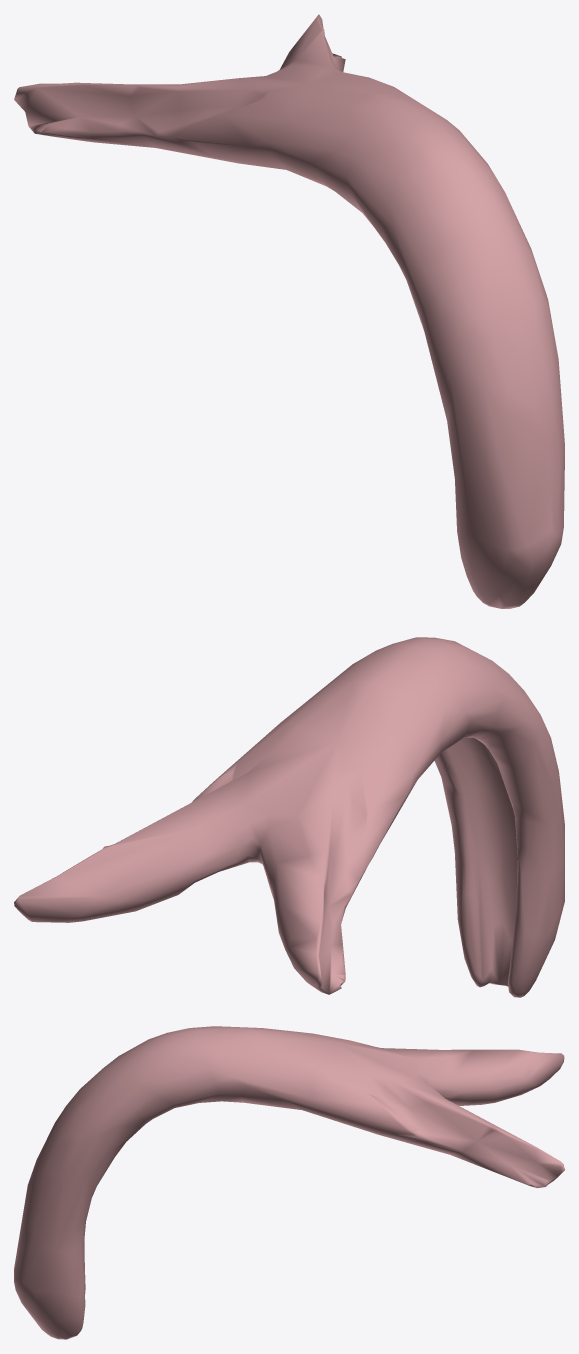
3 views of the same model, one above another, from view 1: azimuth 30°, elevation 25°; view 2: azimuth 150°, elevation 25°; view 3: azimuth 270°, elevation 25° (orthographic). The views are drawn at different scales.
Visible parts, largest first — view 1: ZA_f26cd1157e551a6a; view 2: ZA_f26cd1157e551a6a; view 3: ZA_f26cd1157e551a6a.
Boxes of the visible parts, x1=… form: ZA_f26cd1157e551a6a: x1=14, y1=14, x2=564, y2=608; ZA_f26cd1157e551a6a: x1=14, y1=637, x2=564, y2=997; ZA_f26cd1157e551a6a: x1=14, y1=1026, x2=564, y2=1339.
Bounding box in the file's own units: 0.0653 × 0.0831 × 0.1355.
